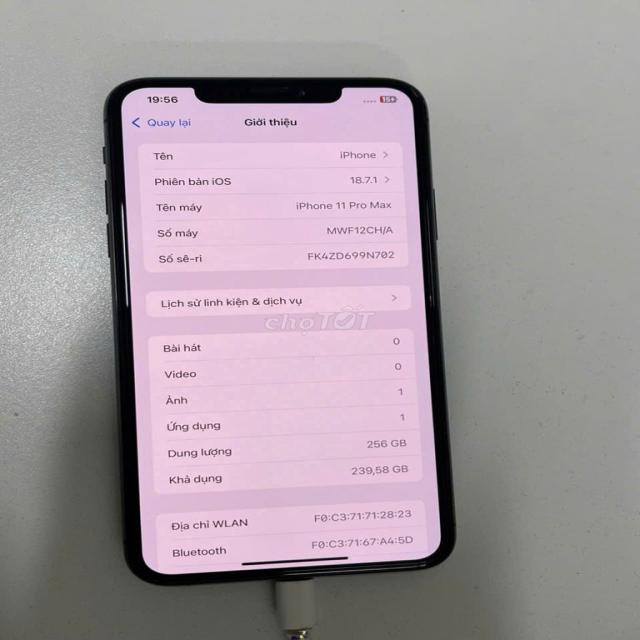gen_11: (107, 73, 468, 590)
